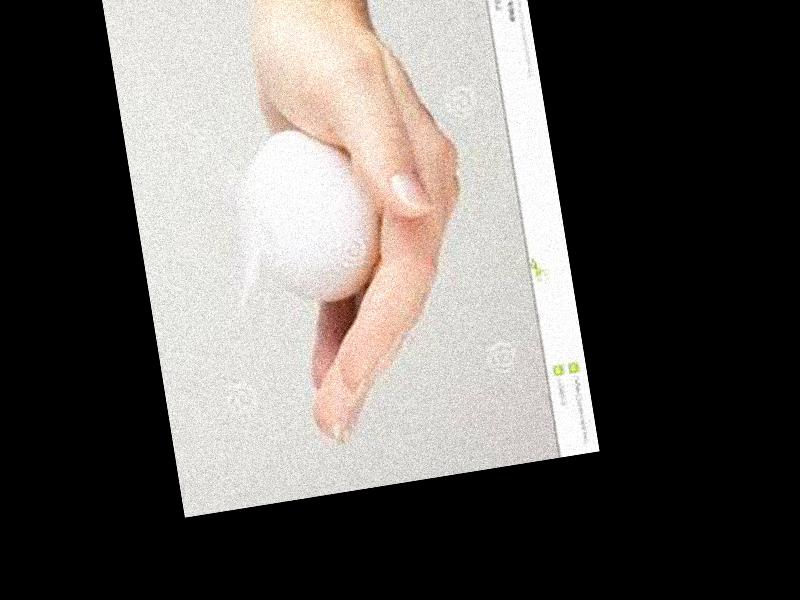Eggs: (241, 117, 389, 314)
